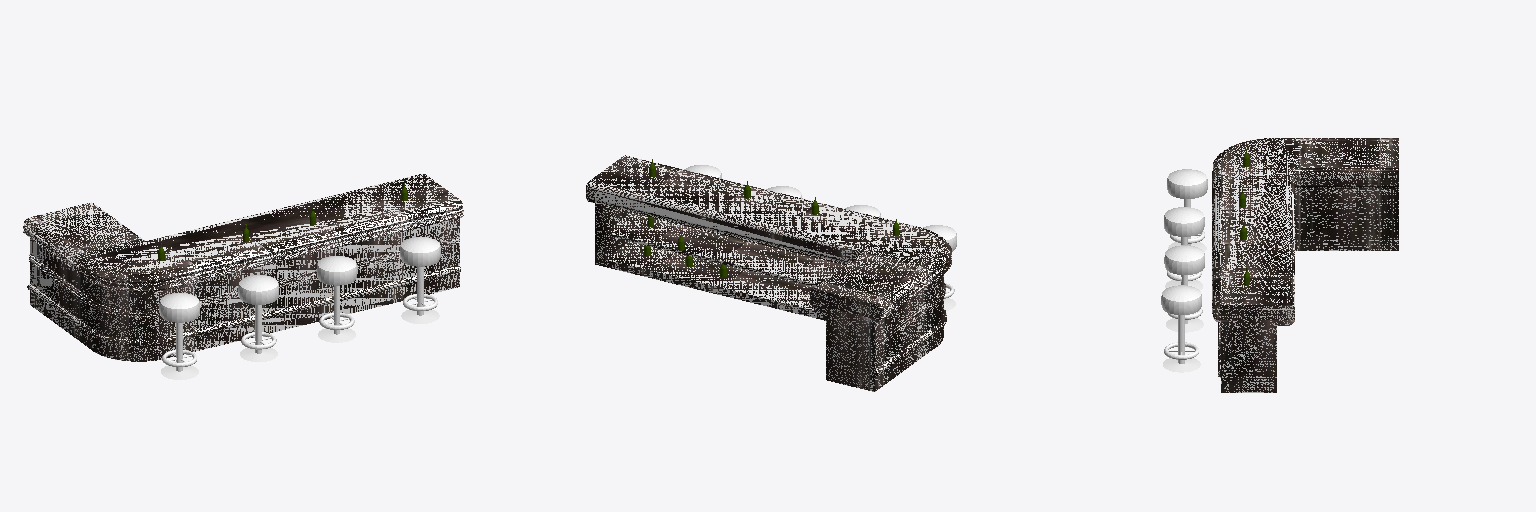
3 views of the same model, side by side, from view 1: azimuth 30°, elevation 25°; view 2: azimuth 150°, elevation 25°; view 3: azimuth 270°, elevation 25° (orthographic).
Parts seen in each view (by area): view 1: mesh6_mesh6-geometry, mesh1_mesh1-geometry, mesh2_mesh2-geometry; view 2: mesh6_mesh6-geometry, mesh1_mesh1-geometry, mesh5_mesh5-geometry; view 3: mesh6_mesh6-geometry, mesh1_mesh1-geometry, mesh2_mesh2-geometry.
Part boxes in pixels (left/top/right/bottom): mesh6_mesh6-geometry: left=23, top=174, right=463, bottom=361; mesh1_mesh1-geometry: left=159, top=237, right=440, bottom=379; mesh2_mesh2-geometry: left=162, top=294, right=437, bottom=366; mesh6_mesh6-geometry: left=586, top=155, right=951, bottom=391; mesh1_mesh1-geometry: left=684, top=165, right=956, bottom=310; mesh5_mesh5-geometry: left=644, top=159, right=899, bottom=277; mesh6_mesh6-geometry: left=1212, top=138, right=1398, bottom=392; mesh1_mesh1-geometry: left=1161, top=169, right=1207, bottom=372; mesh2_mesh2-geometry: left=1164, top=231, right=1204, bottom=359.
Size of the model in its own units: 0.8359 by 0.2392 by 0.4941.
Materials: 7 (2 with a texture image).